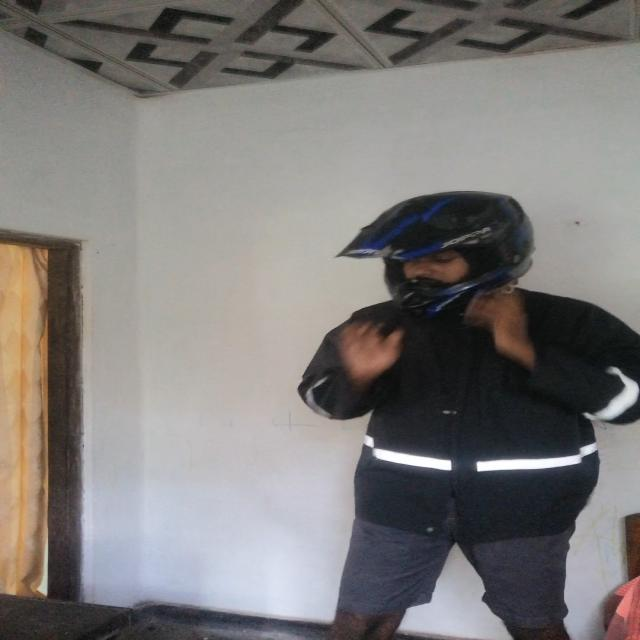Helmet_Wearer: (322, 193, 561, 320)
Jacket_Wearer: (318, 295, 640, 541)
